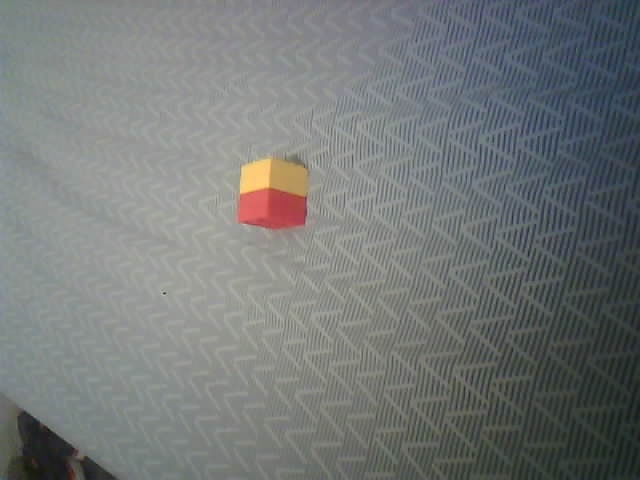lego: (236, 157, 310, 230)
